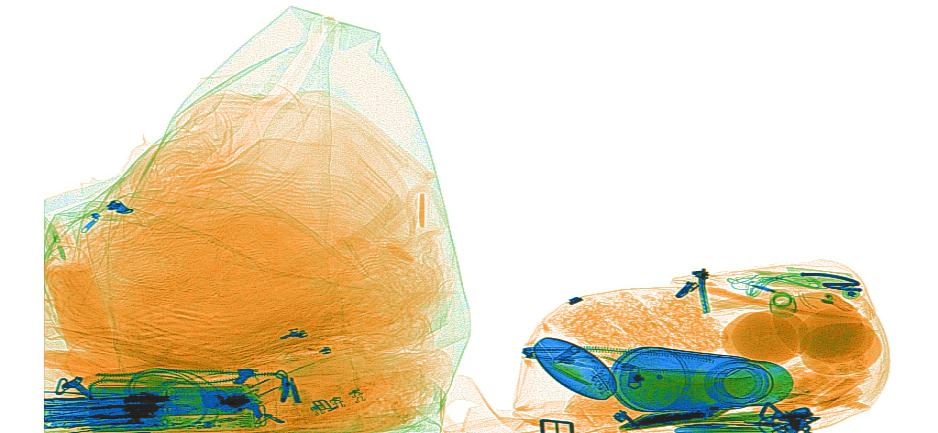battery: (84, 374, 261, 431)
plasticBottleWithaNozzle: (44, 216, 114, 353)
